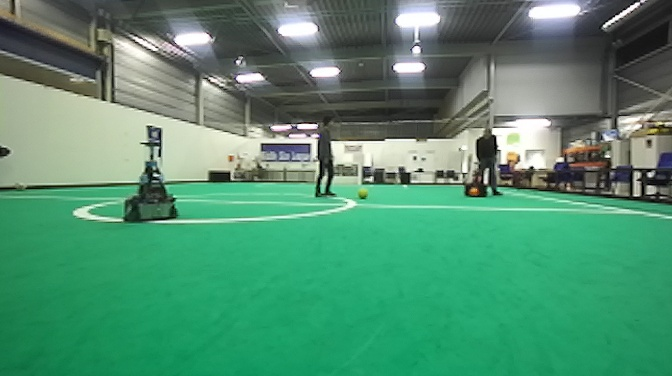ball: (9, 178, 28, 192), (355, 185, 368, 200), (467, 185, 479, 199)
goalpost: (356, 160, 365, 185)
human: (310, 115, 340, 200), (472, 123, 505, 197)
robot: (120, 138, 180, 227), (463, 159, 489, 200)
